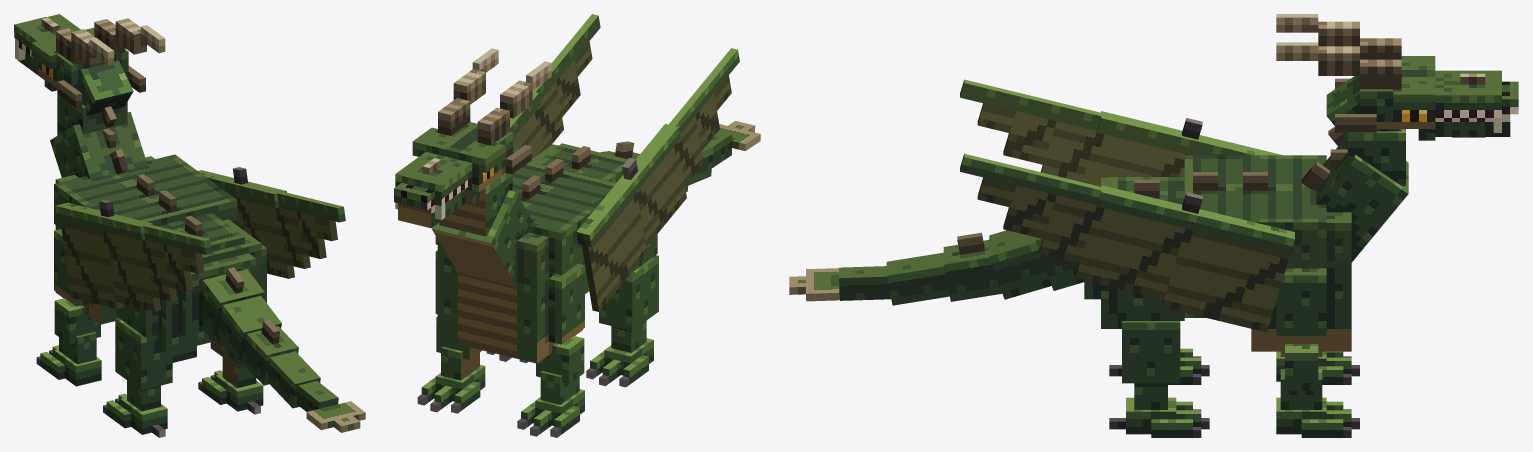
Rendered from dragon.glb.
3 views of the same model, side by side, from view 1: azimuth 30°, elevation 25°; view 2: azimuth 150°, elevation 25°; view 3: azimuth 270°, elevation 25° (orthographic). The views are drawn at different scales.
Visible parts, largest first — view 1: dragon; view 2: dragon; view 3: dragon.
Boxes of the visible parts, box(x1,y1,x2,y2) form: dragon: box(14, 14, 365, 437); dragon: box(394, 14, 760, 437); dragon: box(789, 14, 1518, 437).
Bounding box in the file's own units: 0.7188 × 1.53 × 2.73.
Materials: 1 (1 with a texture image).
